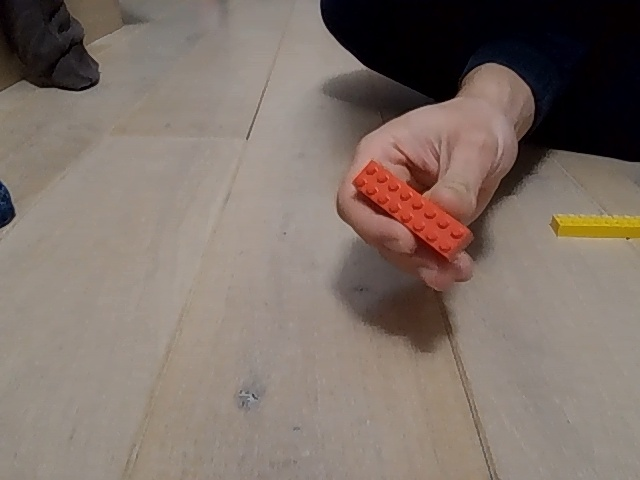lego: (350, 155, 473, 256), (548, 213, 631, 235)
